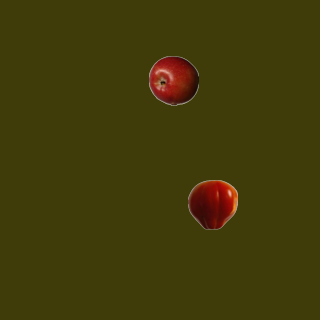Apple Braeburn: (148, 55, 198, 105)
Tomato 1: (187, 179, 237, 229)
